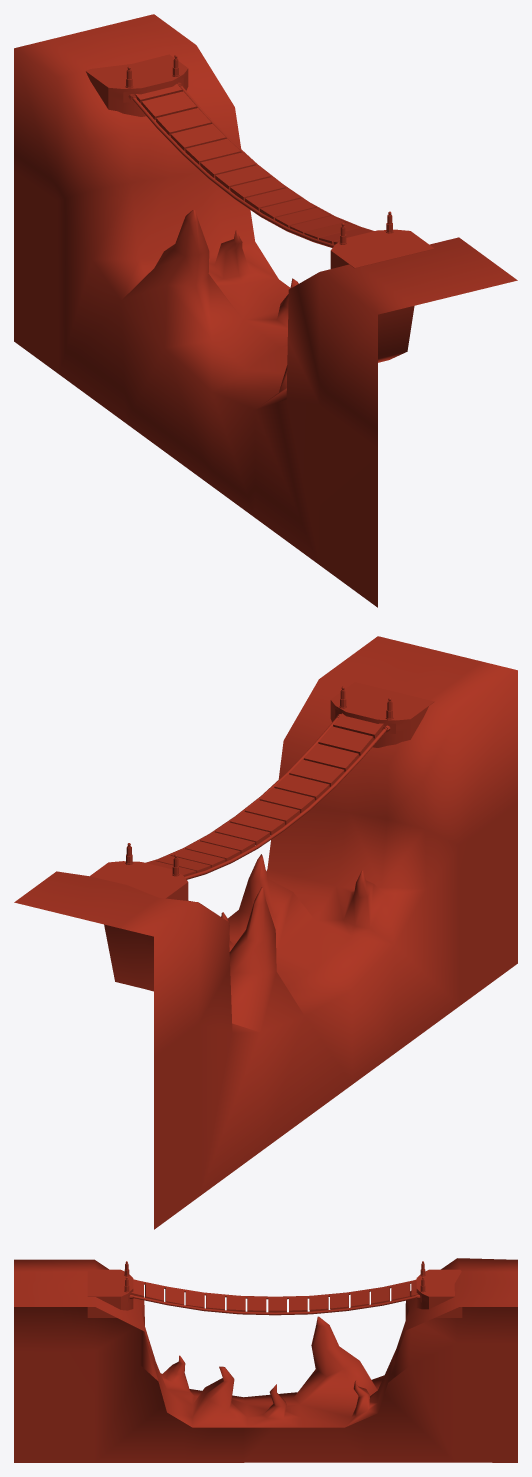
File: f_floor_003.fbx
3 views of the same model, one above another, from view 1: azimuth 30°, elevation 25°; view 2: azimuth 150°, elevation 25°; view 3: azimuth 270°, elevation 25° (orthographic). The views are drawn at different scales.
Parts seen in each view (by area): view 1: f_floor_003, fragmęt mosut, początek mostu, linia; view 2: f_floor_003, fragmęt mosut, początek mostu, linia; view 3: f_floor_003, fragmęt mosut, początek mostu, linia.
Boxes of the visible parts, x1,y1,x2,y2 form: f_floor_003: [14, 14, 517, 607]; fragmęt mosut: [135, 84, 373, 244]; początek mostu: [85, 54, 434, 268]; linia: [132, 86, 374, 247]; f_floor_003: [14, 636, 517, 1229]; fragmęt mosut: [147, 713, 383, 876]; początek mostu: [90, 682, 434, 900]; linia: [145, 717, 386, 879]; f_floor_003: [14, 1258, 517, 1462]; fragmęt mosut: [131, 1279, 418, 1312]; początek mostu: [87, 1263, 462, 1317]; linia: [134, 1280, 415, 1315].
Size of the model in its own units: 1000 by 2140 by 4500.
